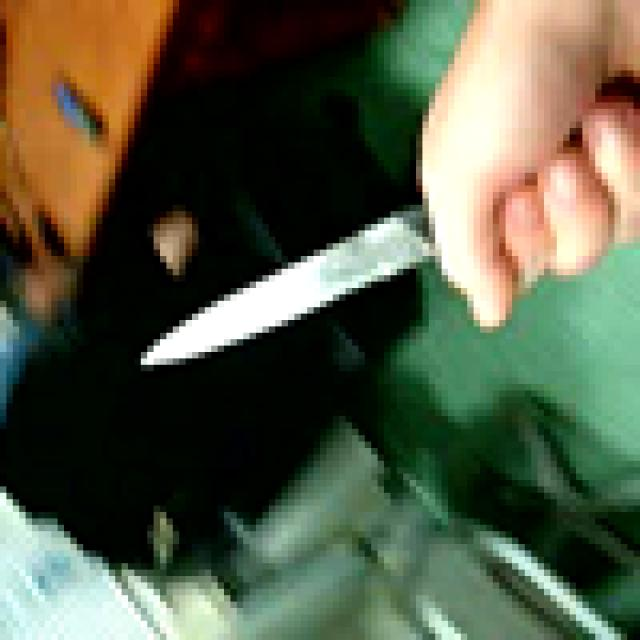Knife: (134, 70, 640, 372)
